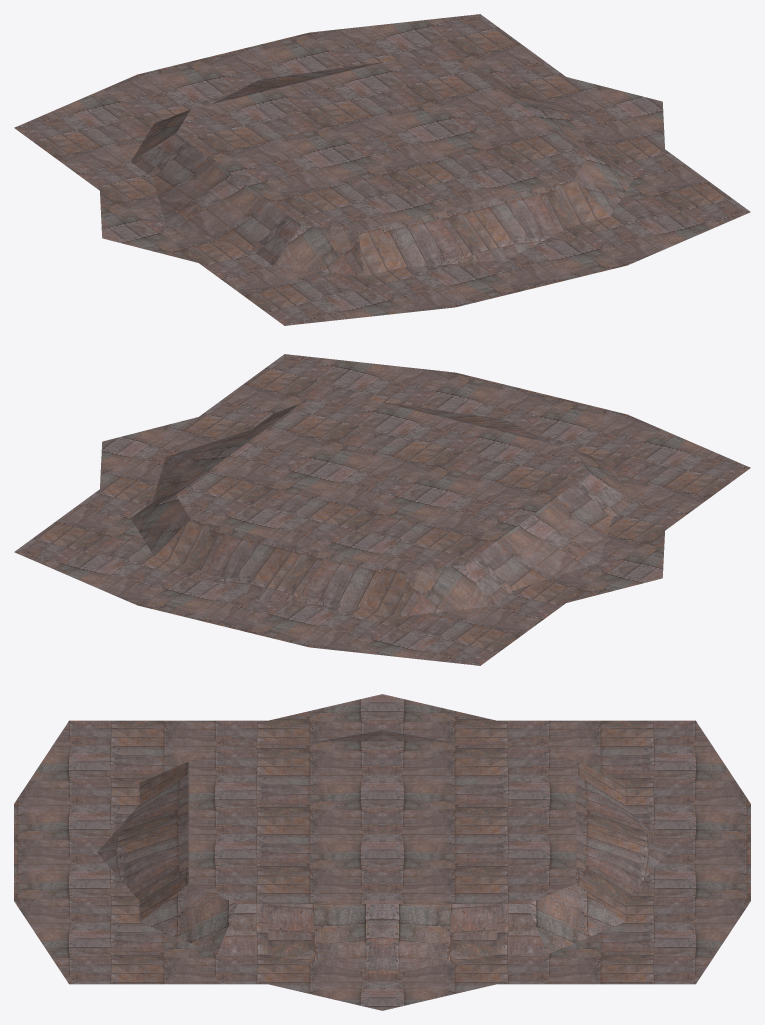
Rendered from SM_LDFest_23_03.fbx.
3 views of the same model, one above another, from view 1: azimuth 30°, elevation 25°; view 2: azimuth 150°, elevation 25°; view 3: azimuth 270°, elevation 25° (orthographic). The views are drawn at different scales.
Parts seen in each view (by area): view 1: SM_LDFest_23_03; view 2: SM_LDFest_23_03; view 3: SM_LDFest_23_03.
Boxes of the visible parts, x1,y1,x2,y2 form: SM_LDFest_23_03: [14, 14, 750, 325]; SM_LDFest_23_03: [14, 354, 750, 665]; SM_LDFest_23_03: [14, 694, 750, 1010].
Bounding box in the file's own units: 4049 × 178 × 3980.
